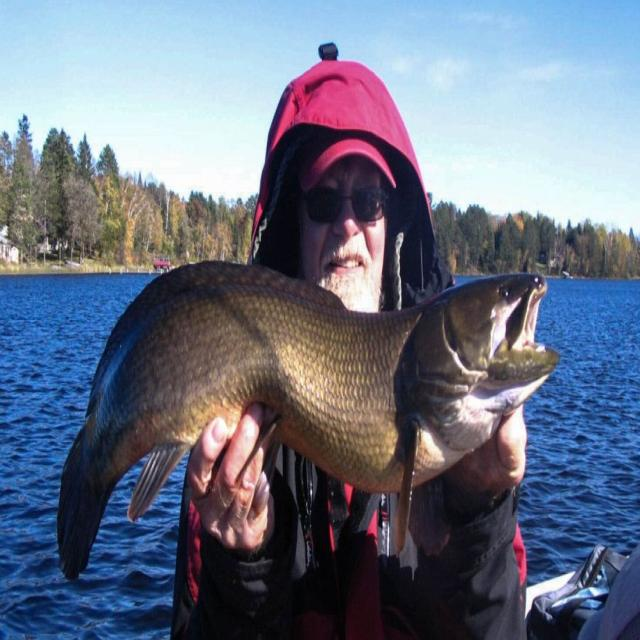Bowfin: (58, 263, 559, 578)
